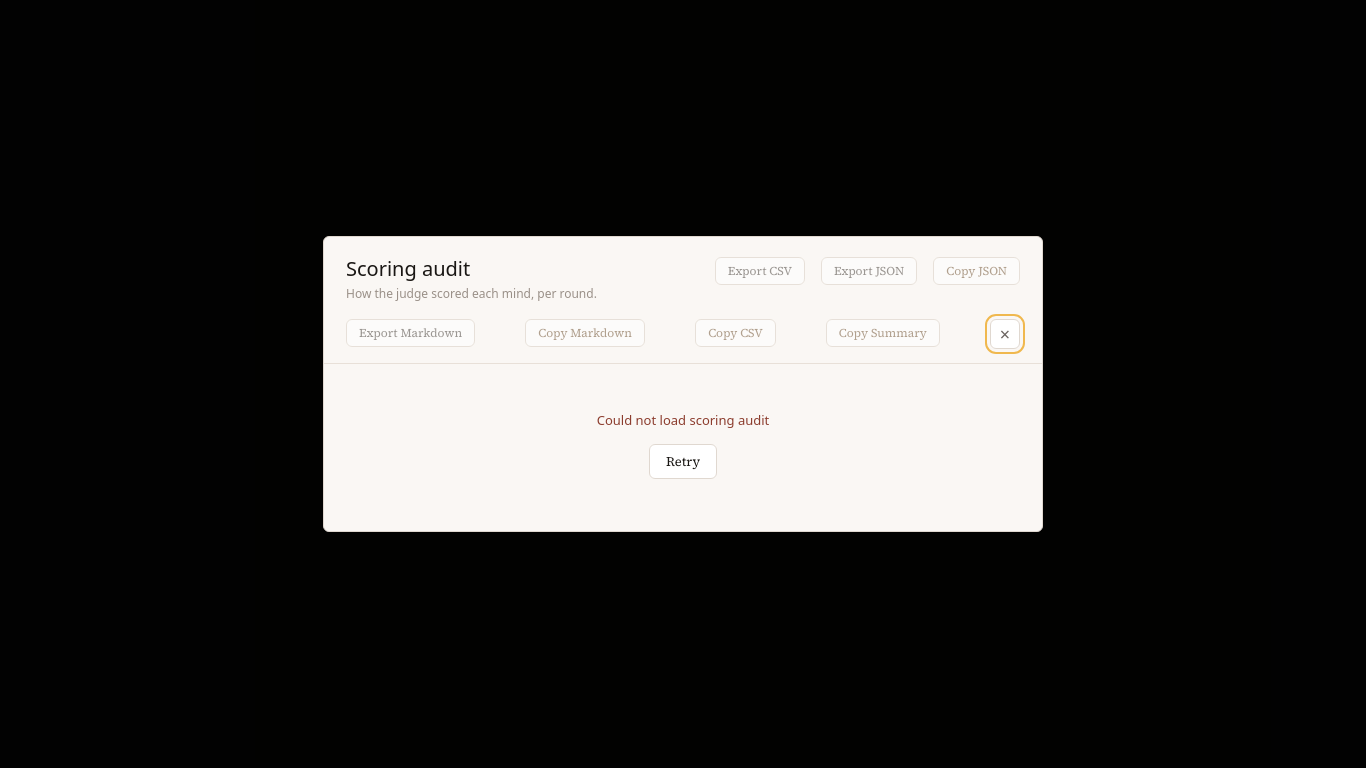
ScoringAuditModal › shows the error and retries the request
The width and height of the screenshot is (1366, 768).
Expected: the message "Could not load scoring audit Retry" is shown, [597,411,769,479]
Click the button "Retry". click: (683, 462)
box: [649,444,717,479]
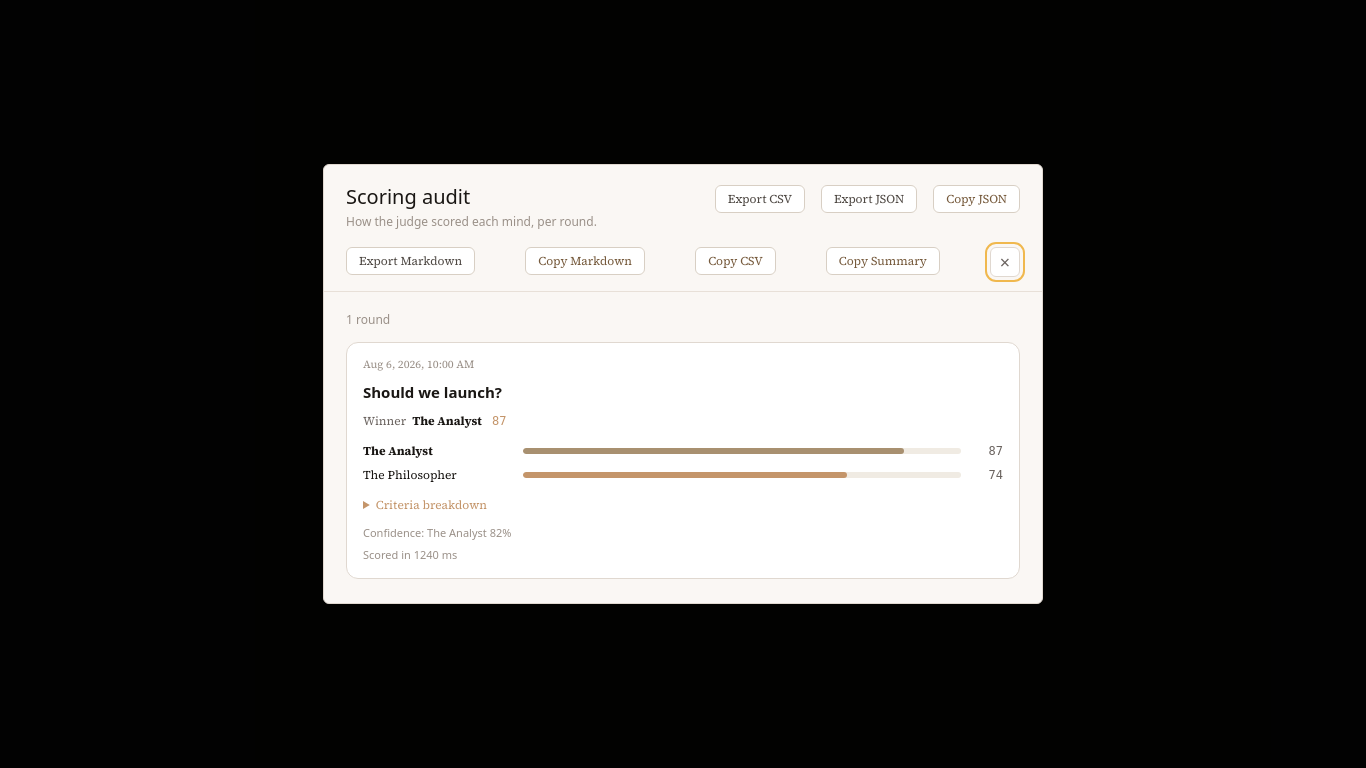
Result: the text "Should we launch?" is shown at [363,382,502,402]
